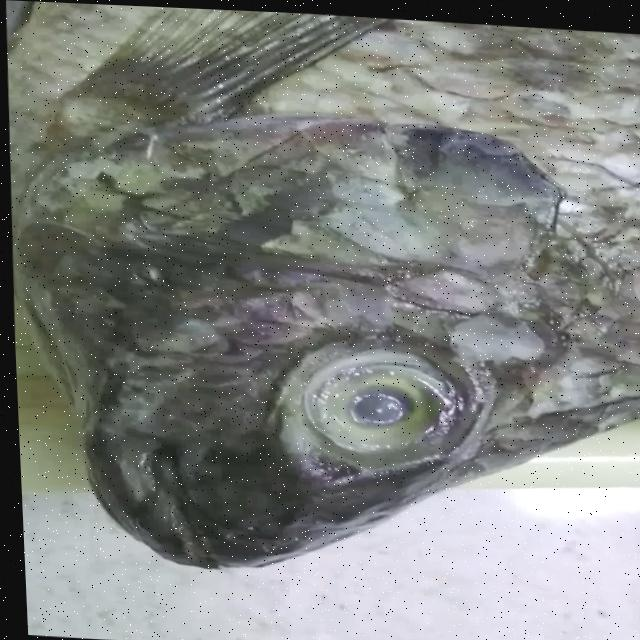Non-Fresh: (255, 325, 493, 483)
